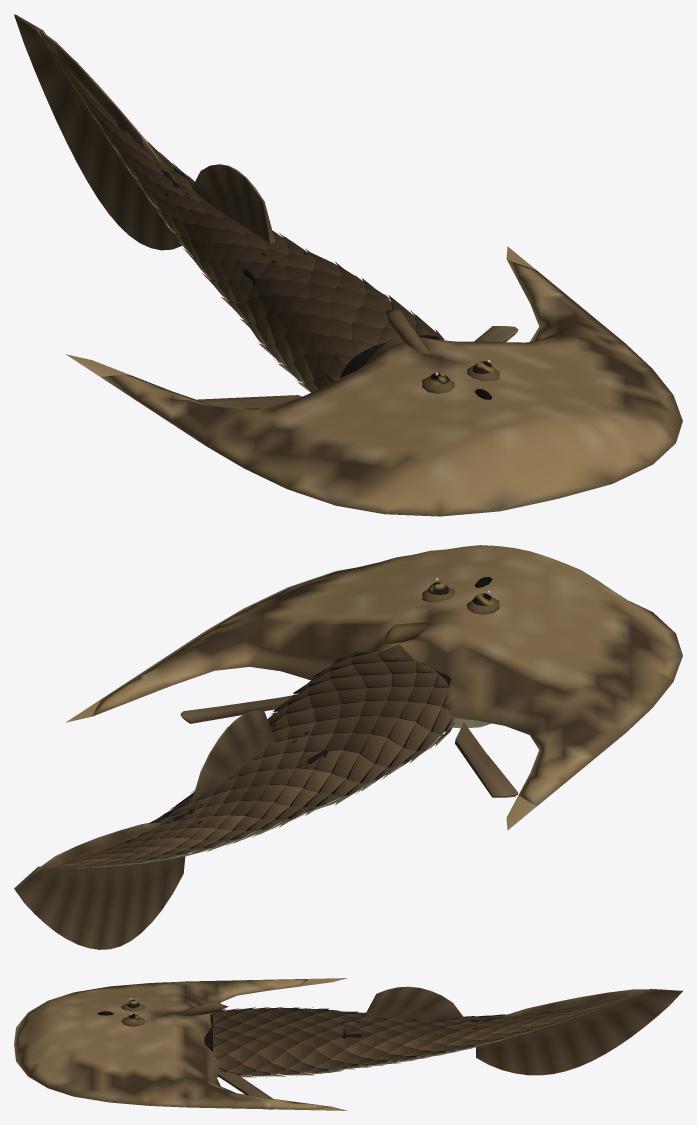
File: Cephalaspis.fbx
3 views of the same model, one above another, from view 1: azimuth 30°, elevation 25°; view 2: azimuth 150°, elevation 25°; view 3: azimuth 270°, elevation 25° (orthographic). The views are drawn at different scales.
Parts seen in each view (by area): view 1: Cephalaspis; view 2: Cephalaspis; view 3: Cephalaspis.
Boxes of the visible parts, left/top/right/bottom form: Cephalaspis: left=14, top=14, right=682, bottom=516; Cephalaspis: left=14, top=545, right=682, bottom=949; Cephalaspis: left=14, top=978, right=682, bottom=1110.
Size of the model in its own units: 0.79 by 0.2446 by 1.68.
